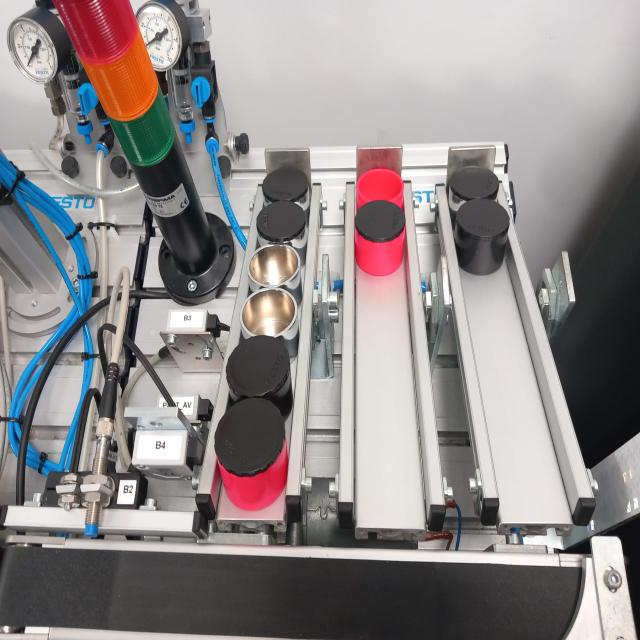NoLid: (240, 286, 300, 341), (250, 246, 301, 290), (357, 169, 407, 208)
Workpiece: (214, 406, 286, 512), (227, 329, 296, 425), (357, 201, 408, 277), (457, 202, 508, 278), (453, 161, 501, 226), (259, 160, 314, 212), (254, 203, 310, 247)
